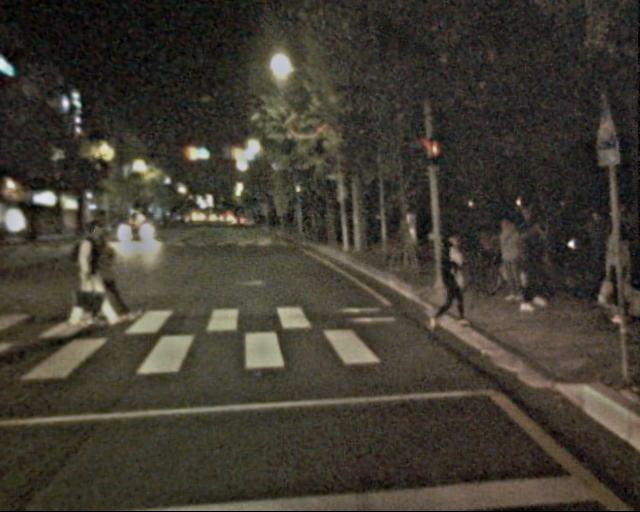person: (70, 217, 114, 325), (594, 222, 637, 328), (423, 230, 466, 336), (514, 218, 553, 314), (85, 232, 124, 326), (581, 206, 616, 292), (494, 216, 528, 299), (516, 206, 550, 288)
